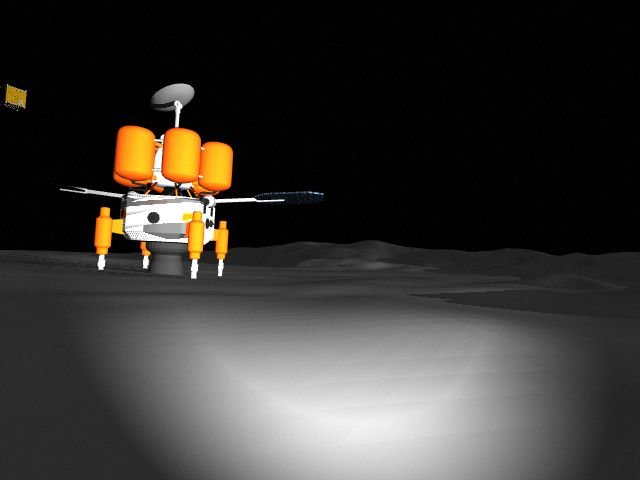cubesat: (1, 78, 33, 120)
